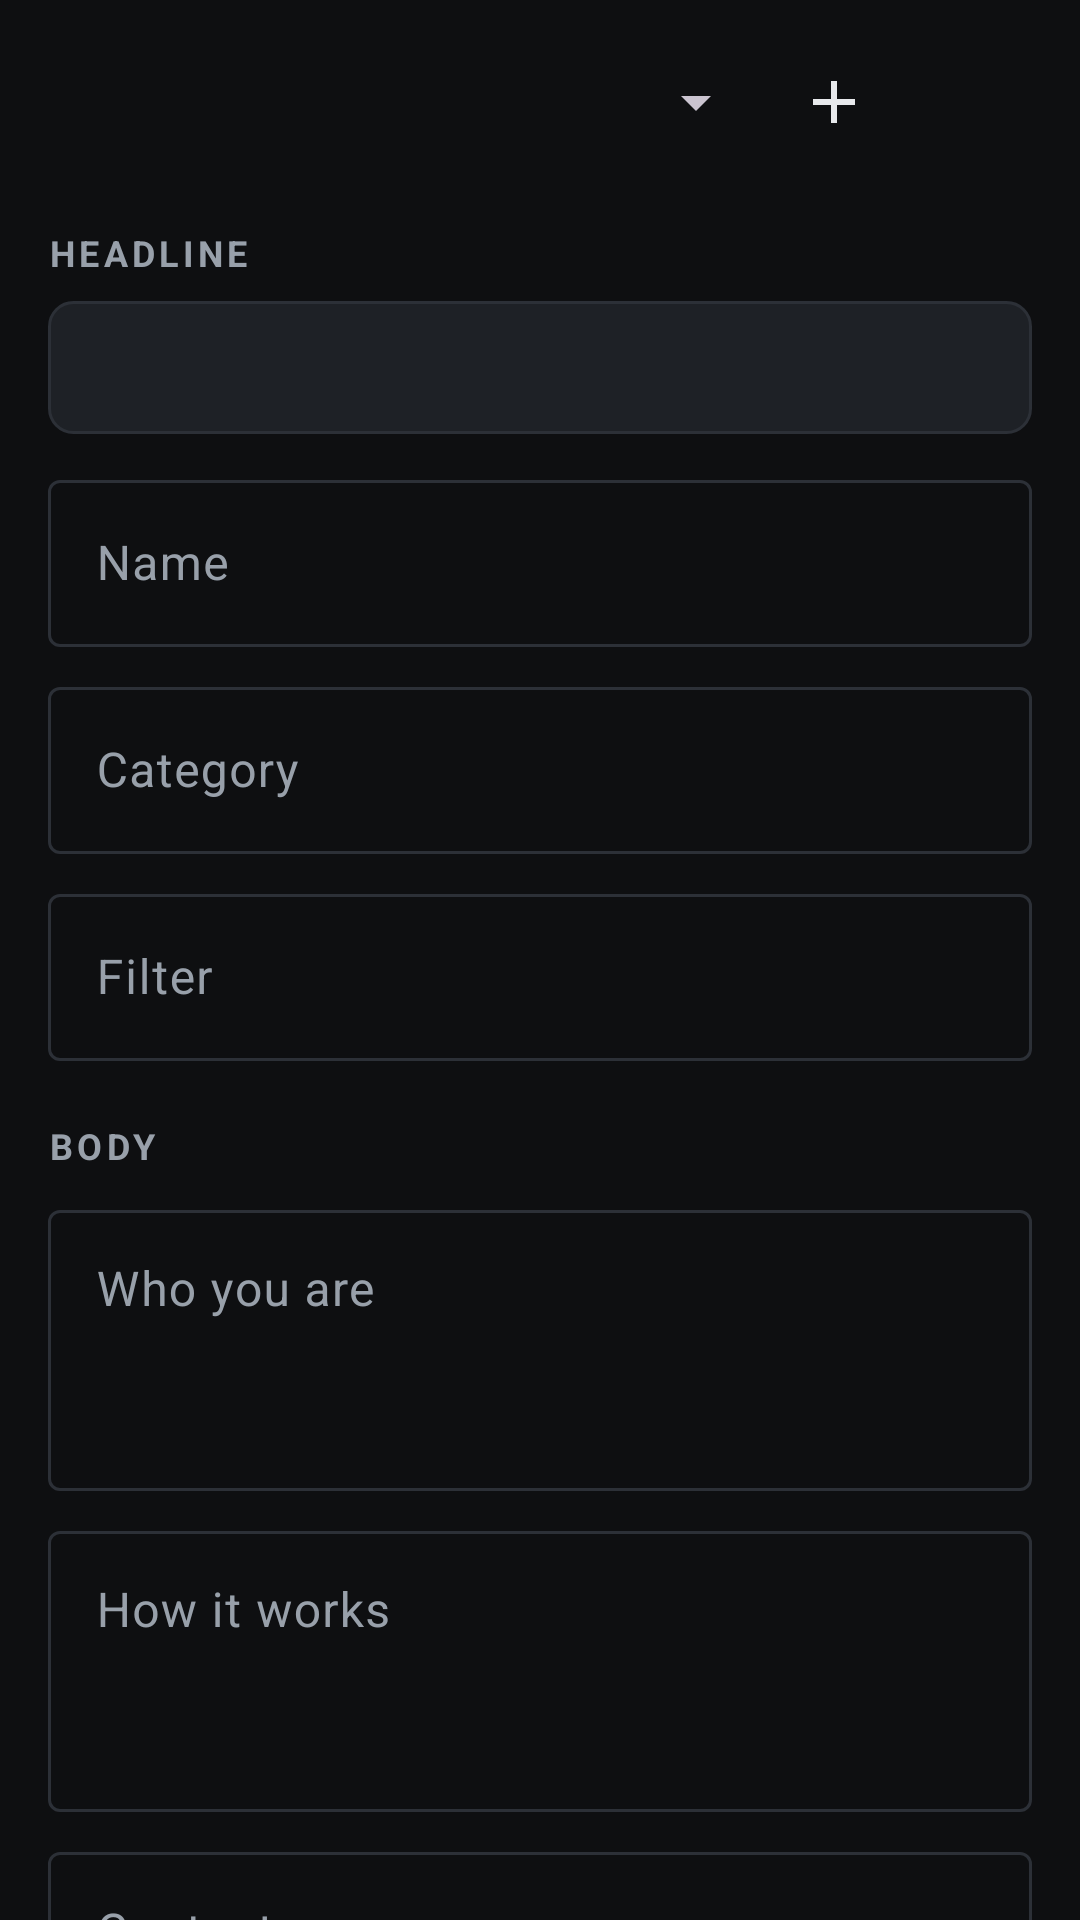

Locate icon controls on the screen. Image size 1080w x 1920h, boxes as (x1, y1, x2, y2).
New draft: (813, 81, 855, 123)
